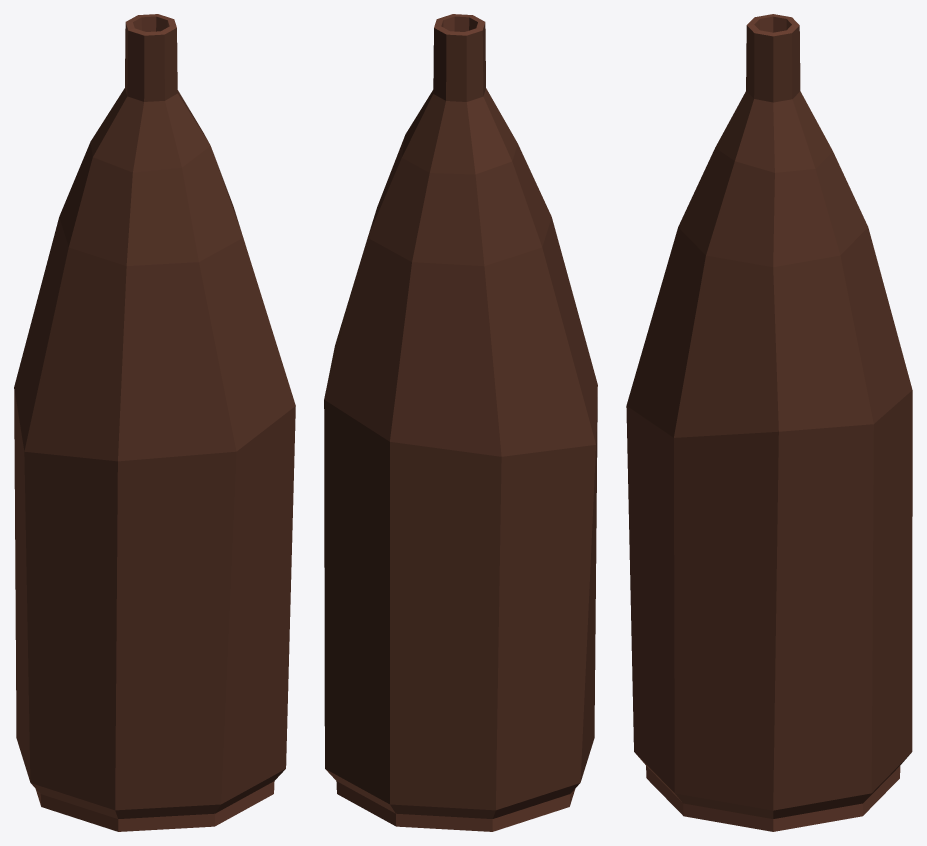
Rendered from Bottle_01.gltf.
3 views of the same model, side by side, from view 1: azimuth 30°, elevation 25°; view 2: azimuth 150°, elevation 25°; view 3: azimuth 270°, elevation 25° (orthographic).
Visible parts, largest first — view 1: bottle; view 2: bottle; view 3: bottle.
Boxes of the visible parts, x1,y1,x2,y2 form: bottle: (14,14,295,831); bottle: (324,14,597,831); bottle: (626,14,912,831).
Size of the model in its own units: 0.1972 by 0.5623 by 0.1933.
Materials: 1 (1 with a texture image).
